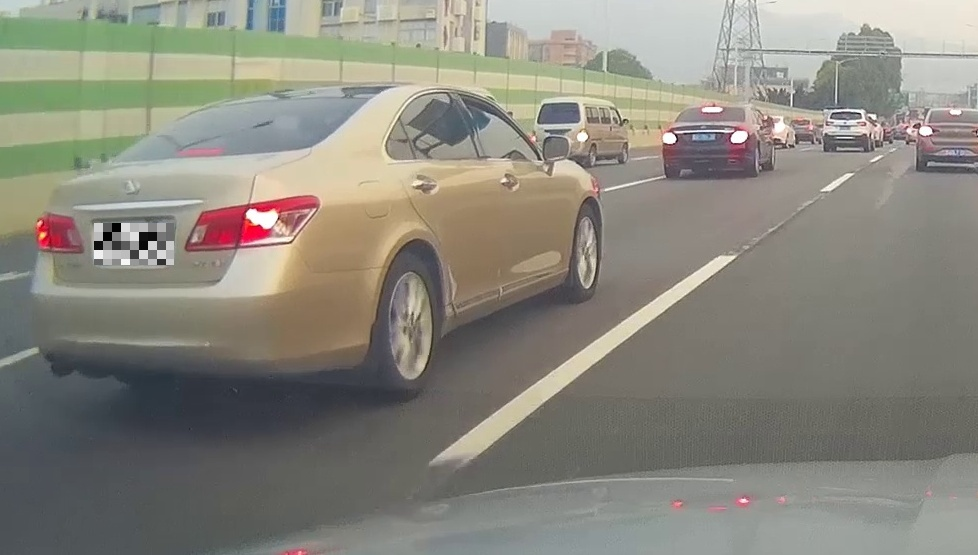L_light: (33, 210, 85, 254), (662, 131, 677, 145), (825, 120, 834, 126)
R_light: (184, 194, 322, 252), (729, 130, 749, 144), (857, 121, 866, 126)
T_light: (175, 146, 224, 158), (701, 106, 724, 114), (842, 111, 851, 114)
day-brake: (30, 84, 390, 403), (661, 104, 752, 179)
day-no: (823, 109, 868, 153)
plate_1: (94, 223, 174, 265)
